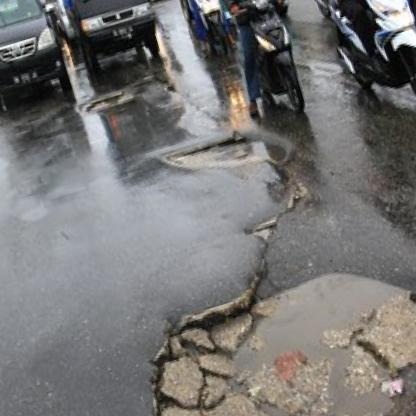pothole: (116, 233, 416, 416), (156, 113, 293, 199), (83, 86, 135, 116)
